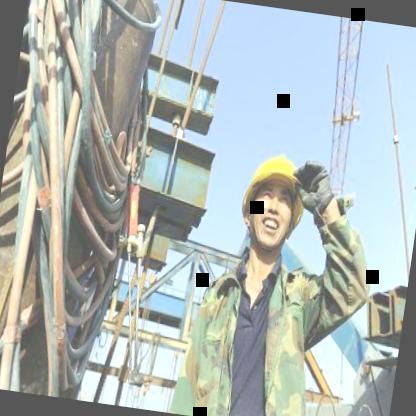helmet: (227, 139, 310, 268)
